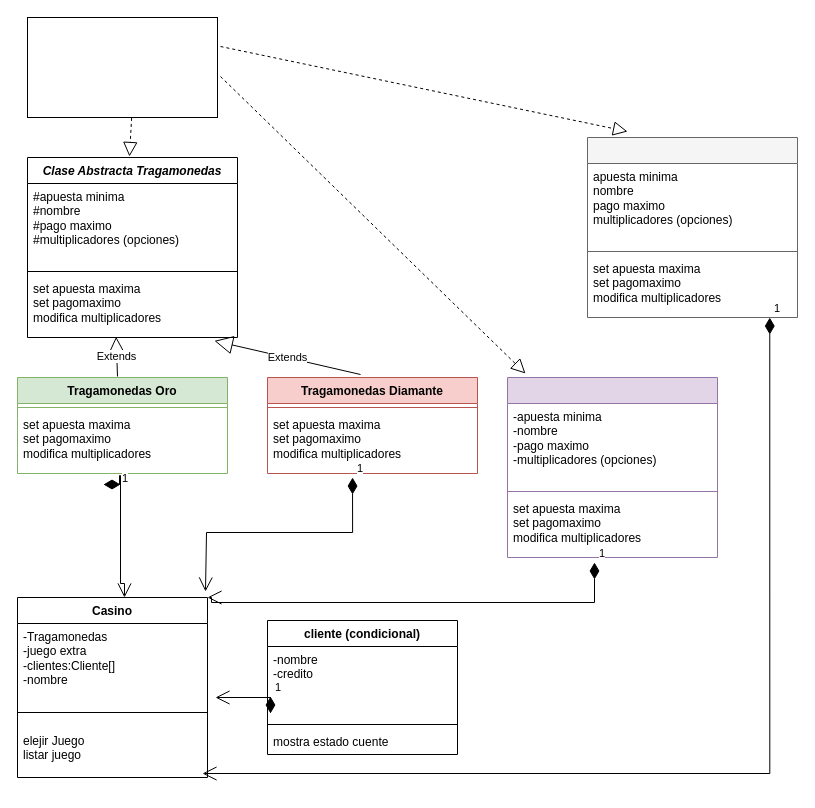
Image size: 815x808. Some labels were removed from this diagram. Here are the shapes that lost their labels. From the top down, the box of each, then its label:
(26, 16, 218, 118): Interface Juegos apostar pagar jugar
(586, 136, 798, 318): BlackJack
(506, 376, 718, 558): Ruleta?=
